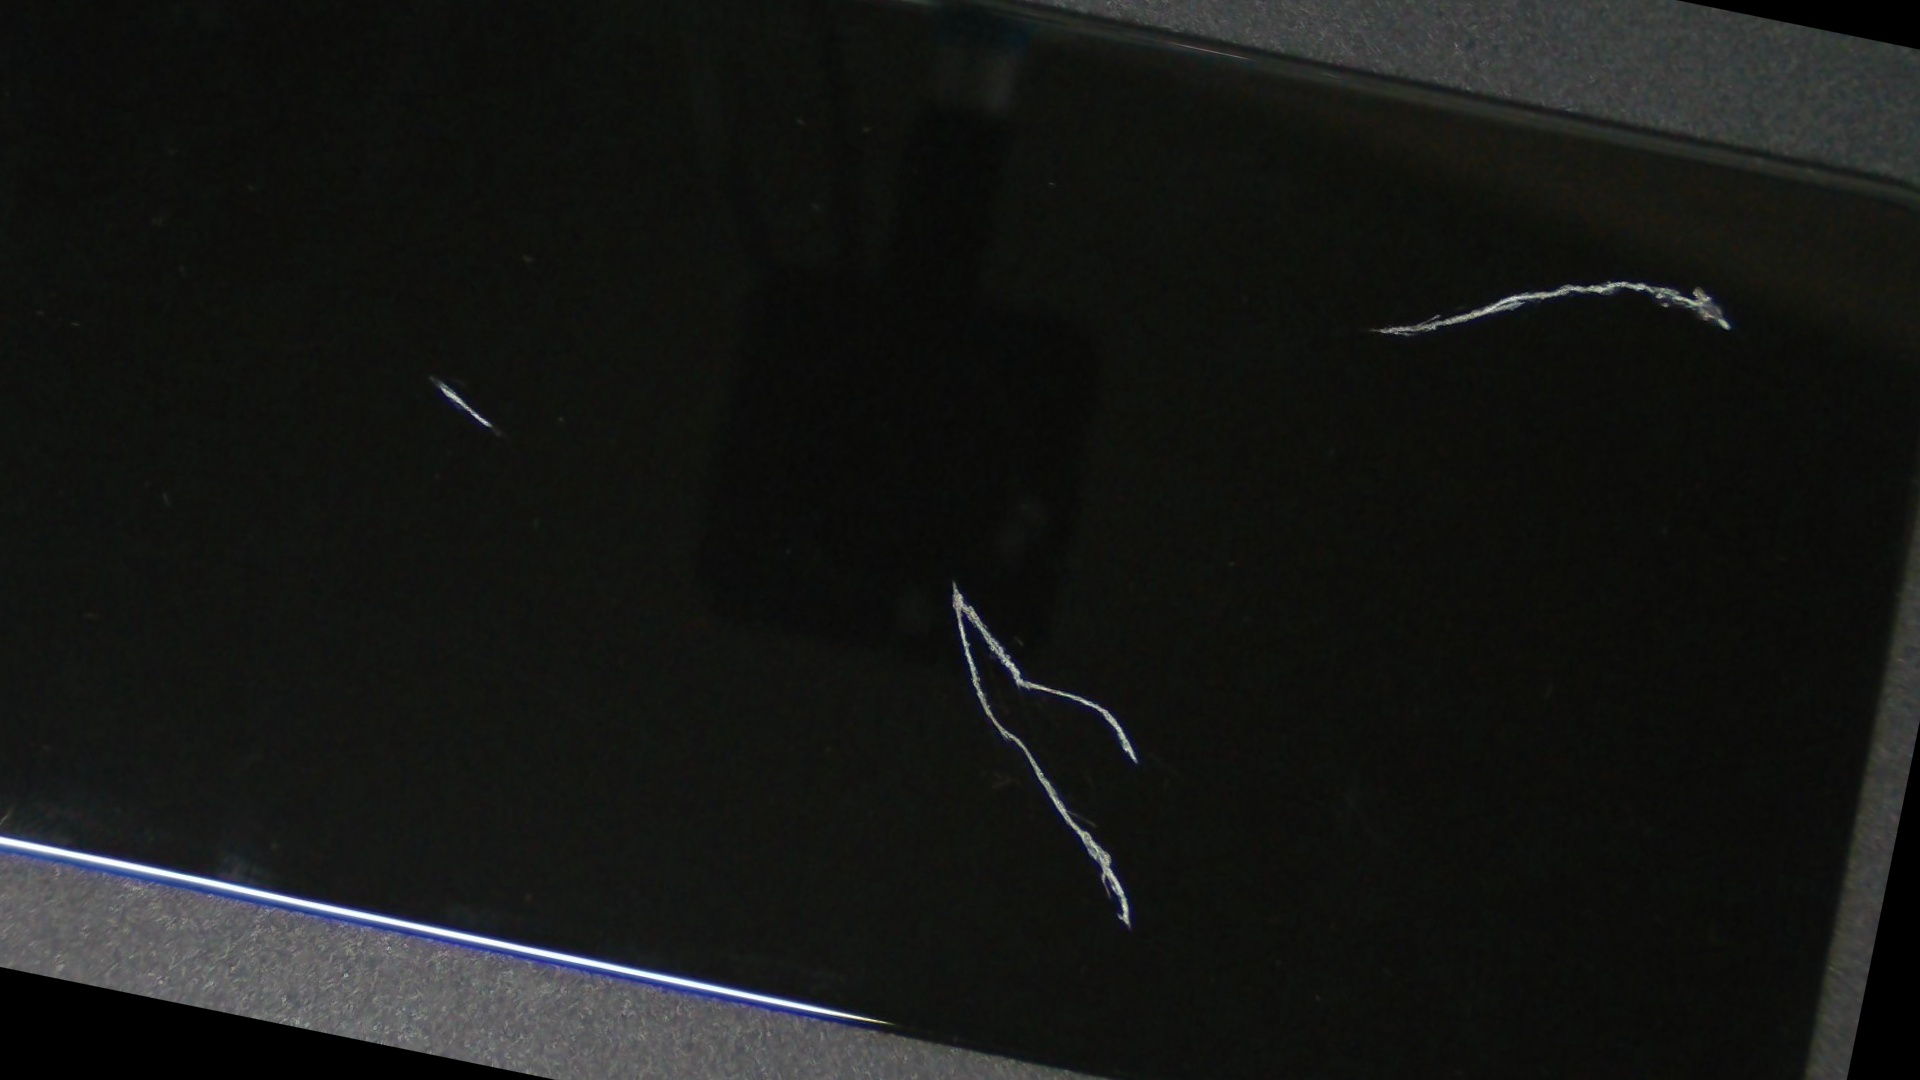oil: (316, 115, 1589, 1044), (778, 0, 1920, 483), (74, 15, 789, 741)
